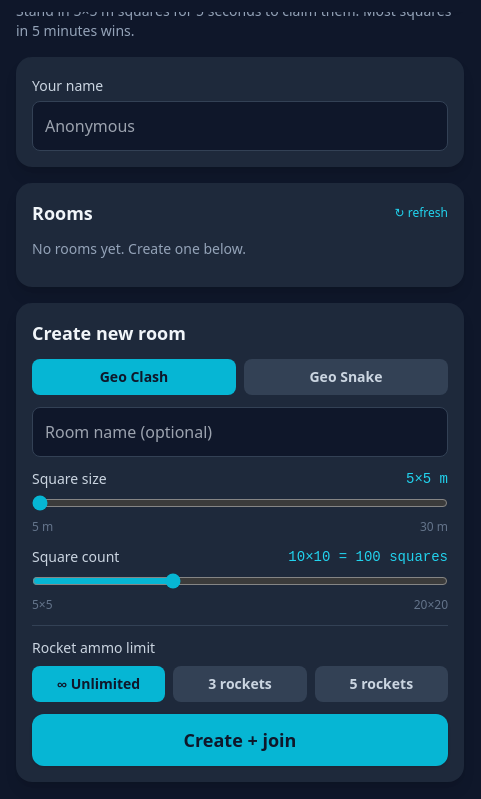
create → join auto-flow › shows error and skips onJoined on failed auto-join
(page scrolled)
What coordinates should you click on to do the following:
click the button "Create + join"
I would click on:
 (240, 740)
Its box is [32, 714, 448, 766].
(page scrolled)
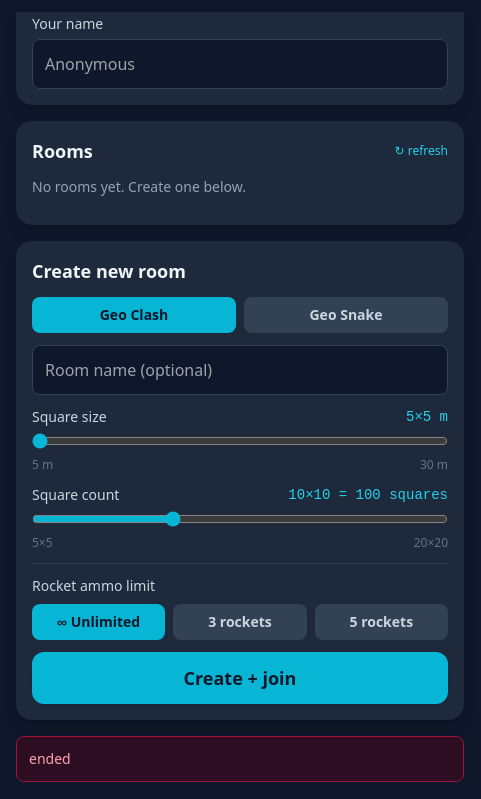
expect the text "ended" is shown: met, box [16, 736, 464, 782]
